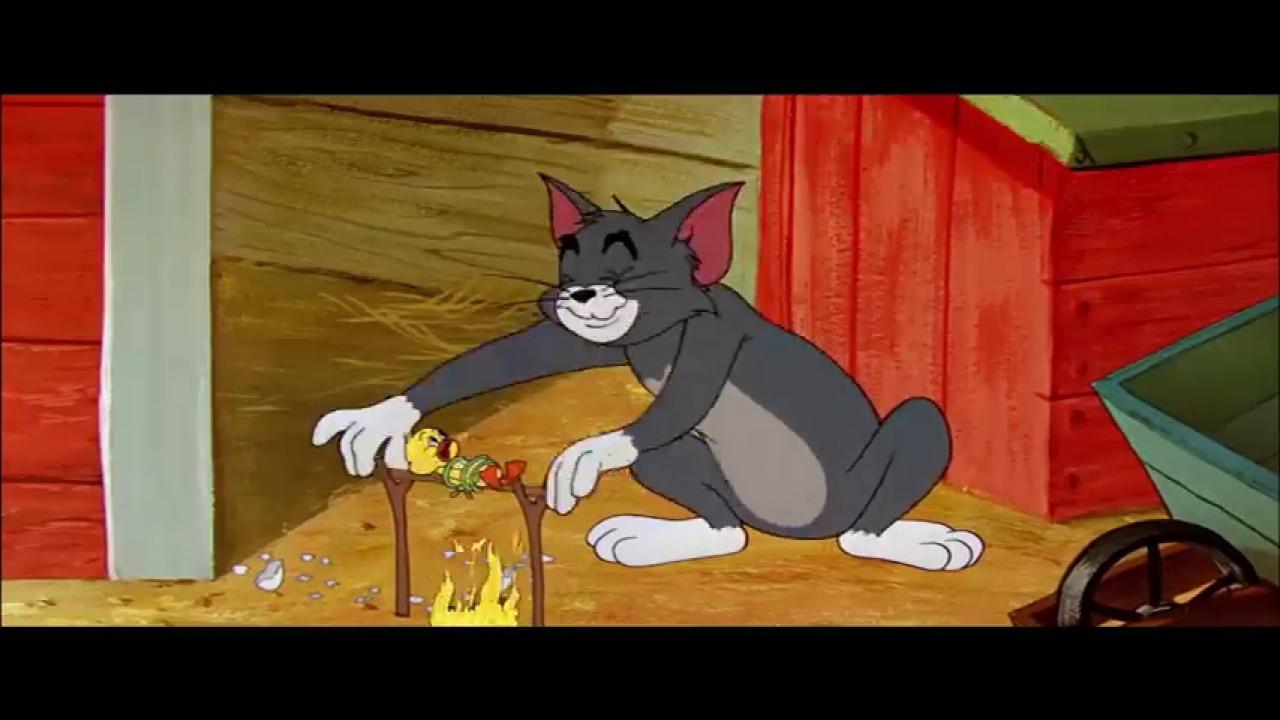Tom: (309, 172, 986, 573)
